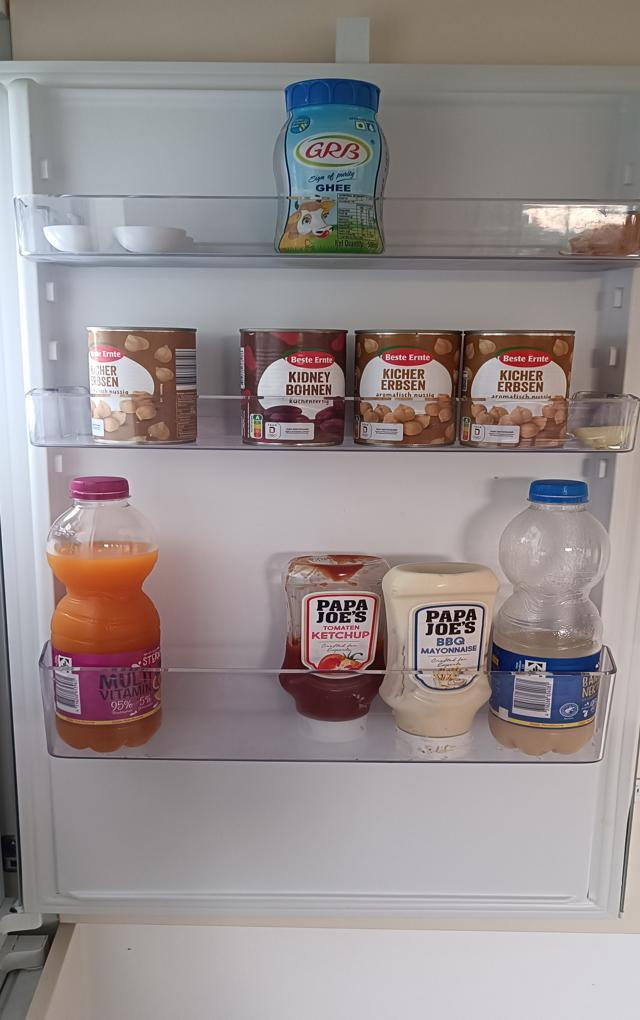bananajuice: (491, 470, 614, 762)
chickpeas: (464, 330, 570, 451), (88, 327, 198, 443), (353, 331, 457, 448)
ghee: (273, 78, 390, 258)
kidneybeans: (239, 329, 348, 447)
mayoniasie: (380, 563, 493, 758)
orangejuice: (44, 476, 169, 753)
tomatoketchup: (277, 554, 393, 740)
